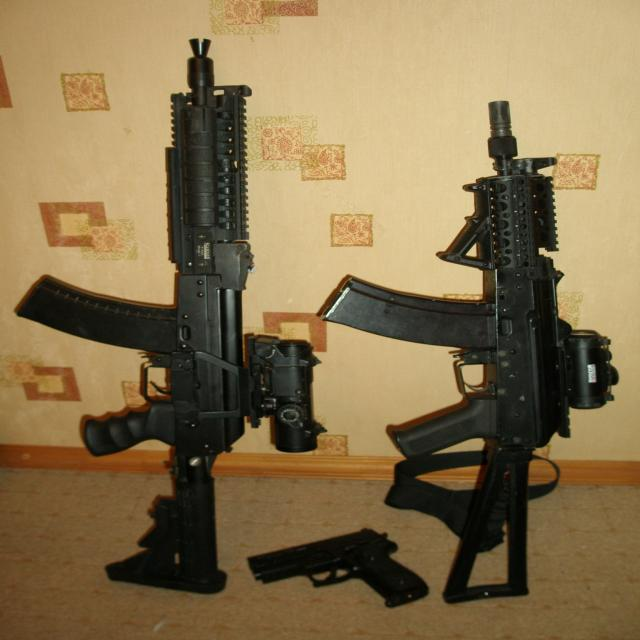firearm: (10, 29, 336, 608), (315, 105, 622, 618)
pistol: (252, 530, 435, 610)
